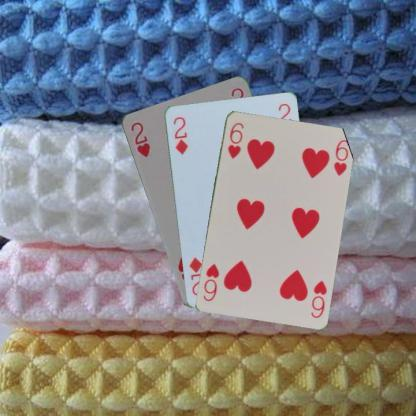2d: (170, 114, 189, 156)
2h: (128, 119, 151, 159)
6h: (308, 277, 328, 319), (225, 120, 245, 160)
